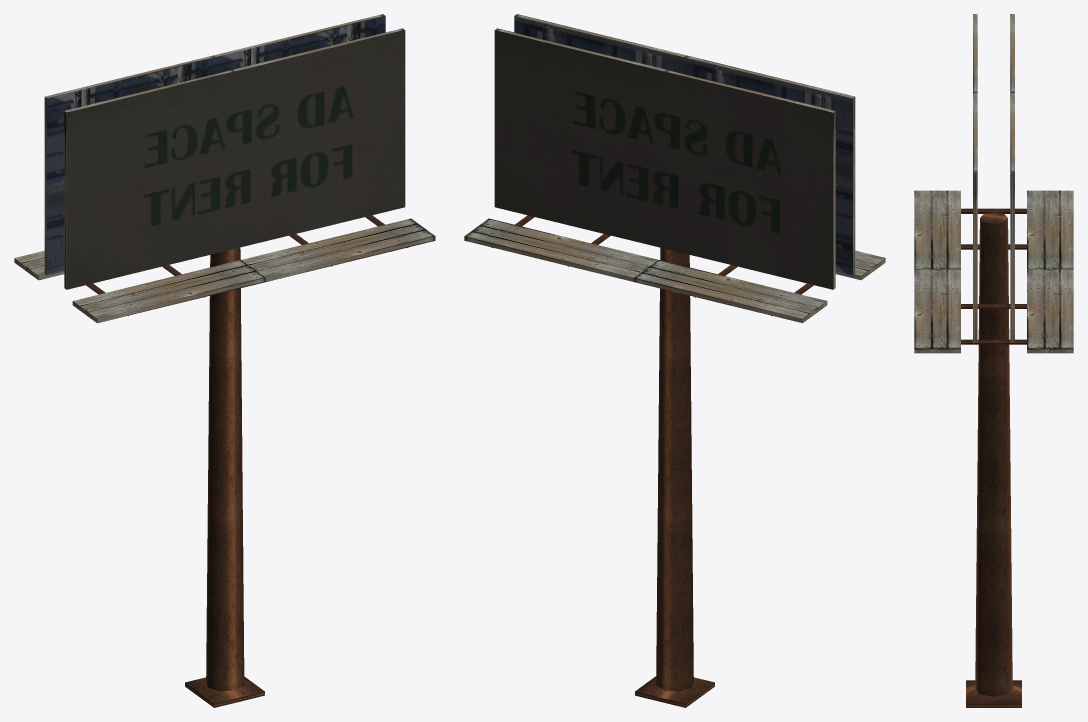
Rendered from billboard_adrent.fbx.
The picture shows the model from 3 angles, left to right: view 1: azimuth 30°, elevation 25°; view 2: azimuth 150°, elevation 25°; view 3: azimuth 270°, elevation 25°; orthographic projection. The views are drawn at different scales.
Parts seen in each view (by area): view 1: mesh_1, mesh_0; view 2: mesh_2, mesh_0; view 3: mesh_0.
Boxes of the visible parts, x1=… form: mesh_1: x1=66, y1=30, x2=405, y2=289; mesh_0: x1=14, y1=14, x2=435, y2=707; mesh_2: x1=494, y1=30, x2=833, y2=289; mesh_0: x1=464, y1=14, x2=885, y2=707; mesh_0: x1=914, y1=14, x2=1073, y2=707.
Size of the model in its own units: 542 by 961 by 230.
2 materials, 2 textured.
